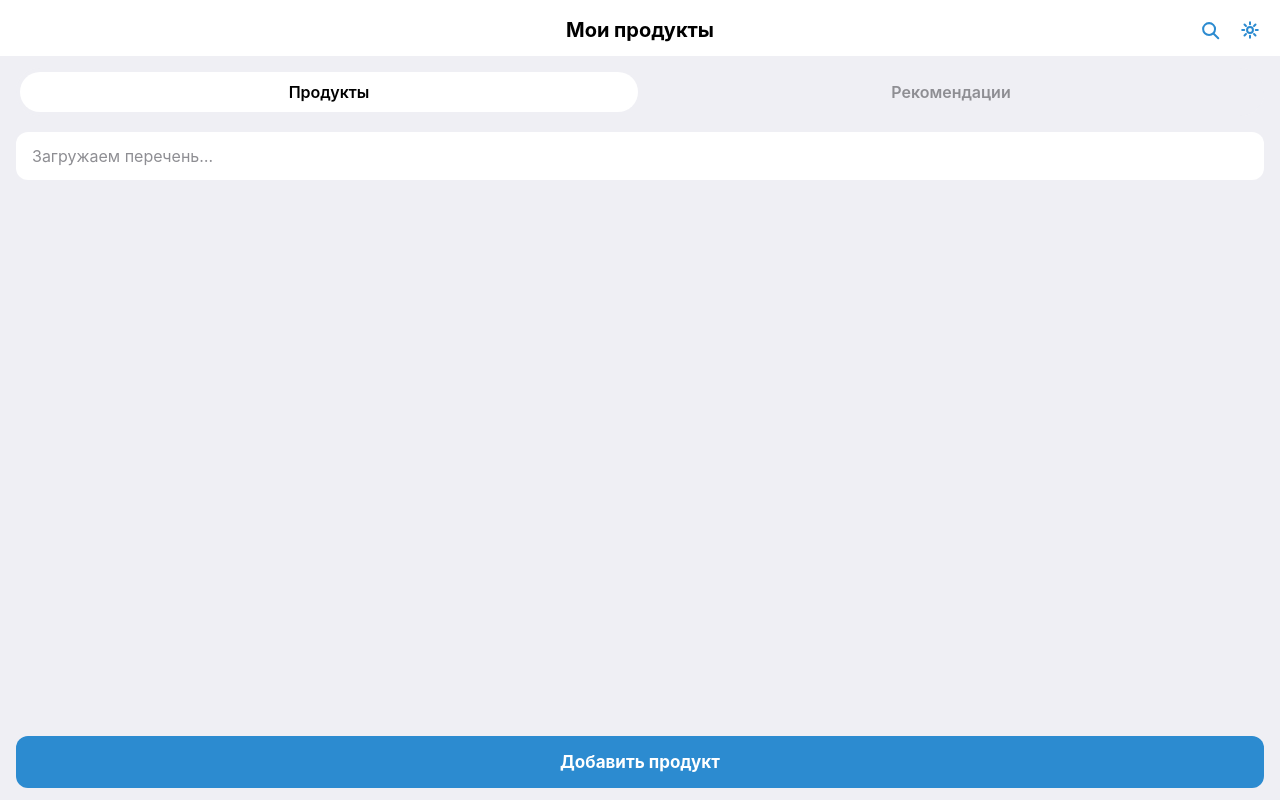
кнопка действия экрана › неактивная «Сохранить» нажимается и называет недостающие поля
This screenshot has width=1280, height=800.
Expected: the heading "Мои продукты" is shown, [566,18,714,42]
Expected: the button "Сохранить" is not shown
Click the button "Добавить продукт".
click(640, 762)  # box [16,736,1264,788]
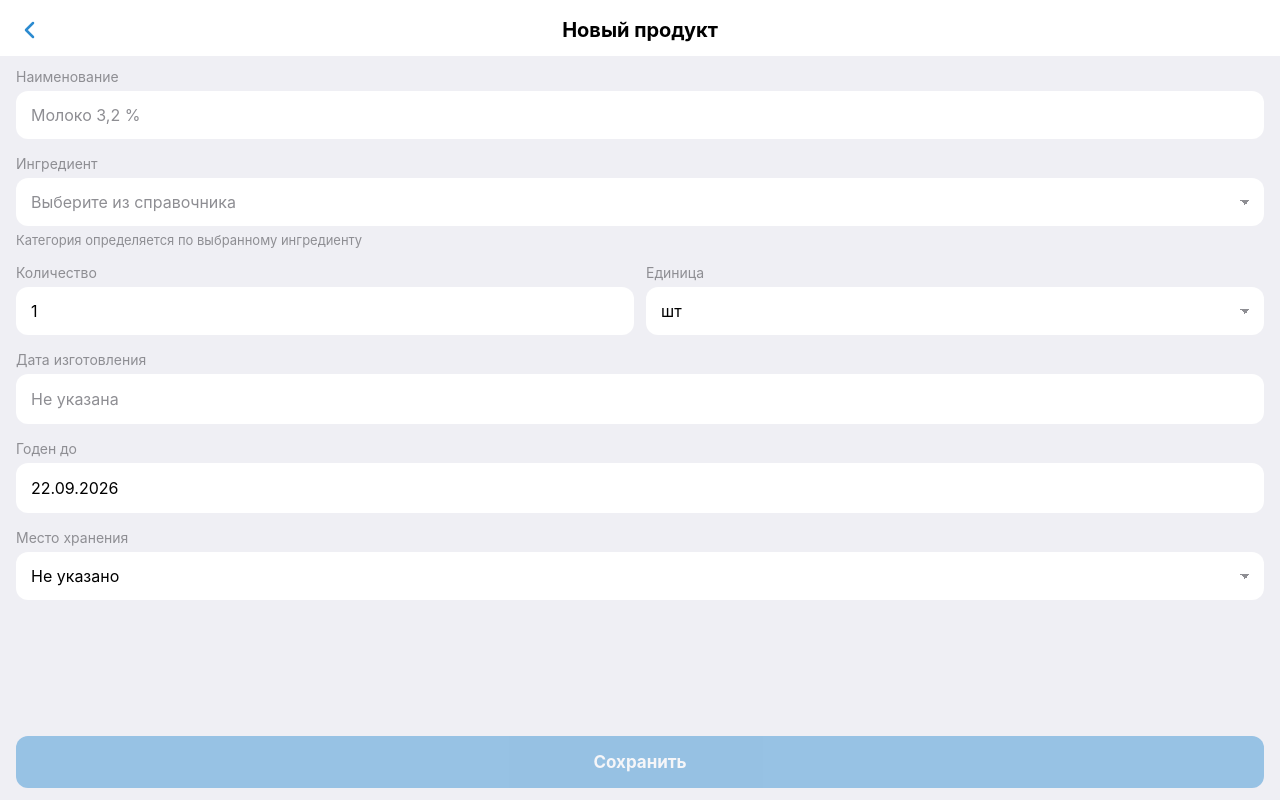
Result: the heading "Новый продукт" is shown at [562,18,718,42]
Result: the button "Сохранить" is shown
Result: the button "Добавить продукт" is gone
Click the button "Сохранить".
click(640, 762)  # box [16,736,1264,788]
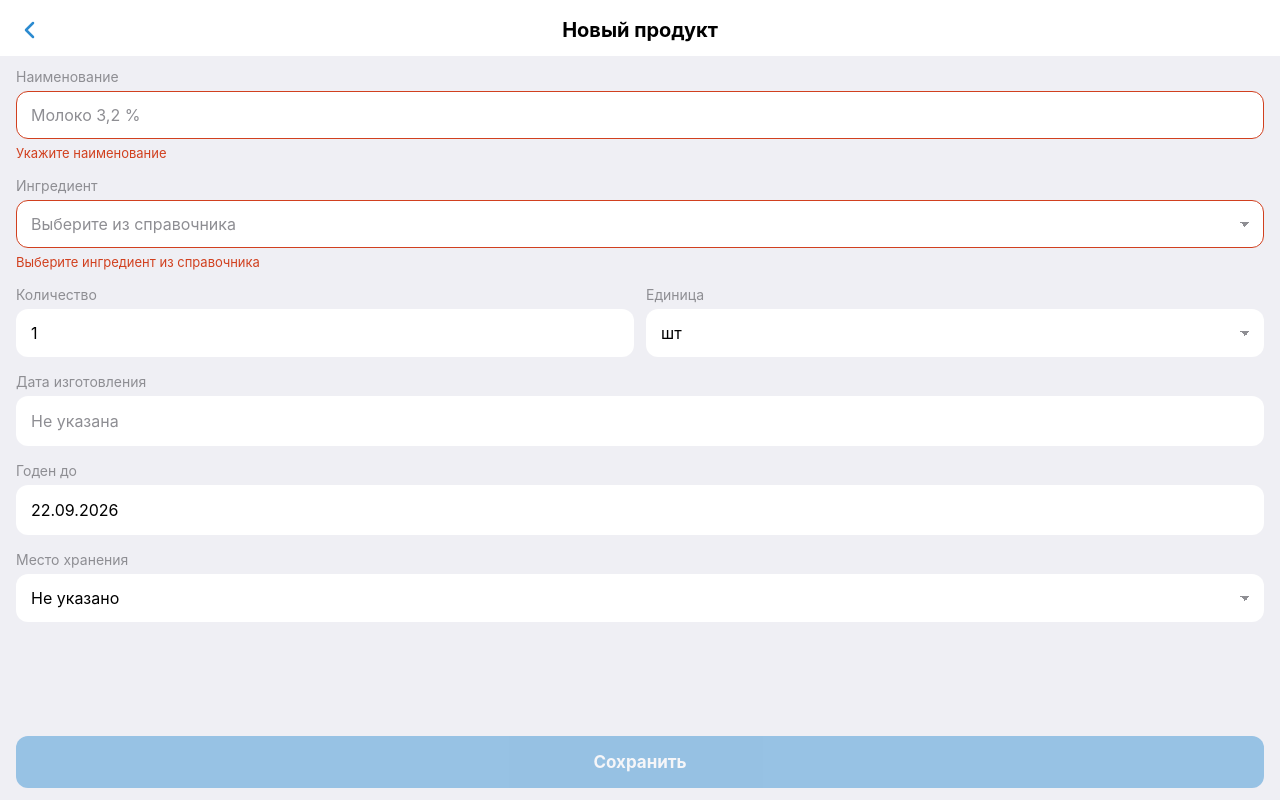
Result: the text "Укажите наименование" is shown at [16,145,166,161]
Result: the text "Выберите ингредиент из справочника" is shown at [16,254,260,270]
